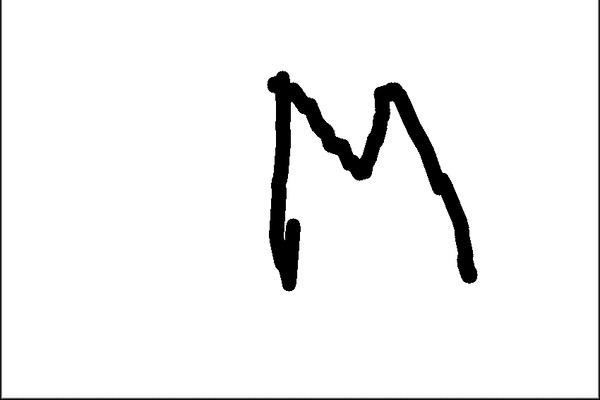M: (259, 68, 480, 291)
